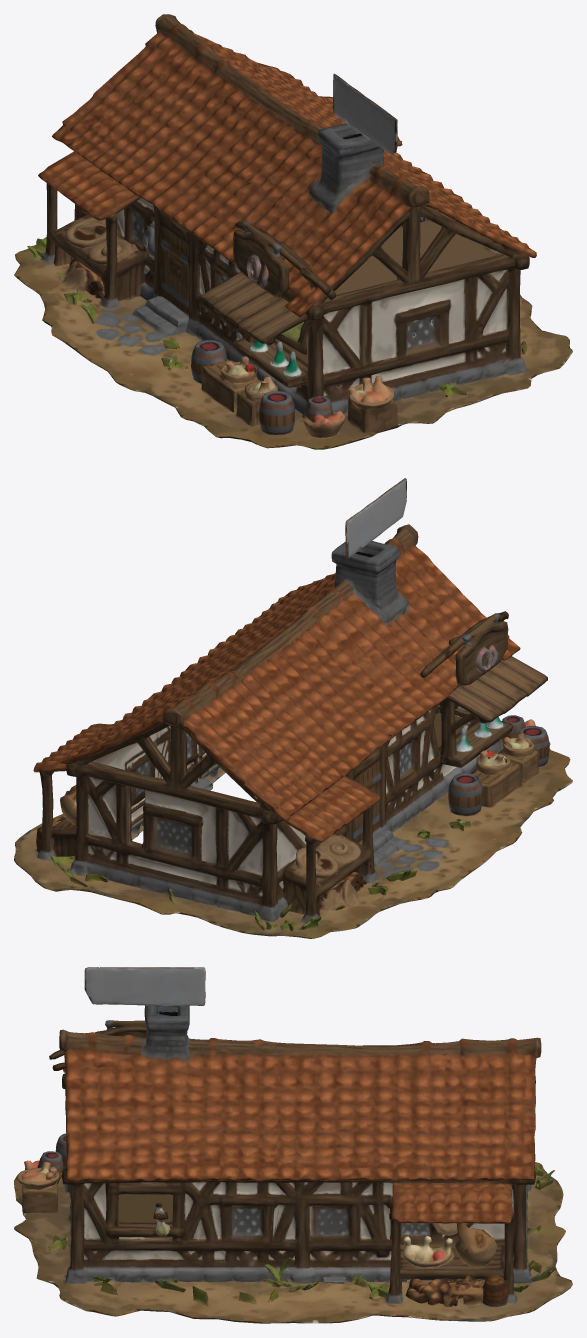
Rendered from Shop.glb.
3 renders of one model, top to bottom at view 1: azimuth 30°, elevation 25°; view 2: azimuth 150°, elevation 25°; view 3: azimuth 270°, elevation 25°, orthographic. The views are drawn at different scales.
Visible parts, largest first — view 1: world; view 2: world; view 3: world.
Boxes of the visible parts, x1,y1,x2,y2 form: world: [14, 14, 572, 449]; world: [14, 478, 572, 938]; world: [14, 967, 572, 1323].
Bounding box in the file's own units: 0.7849 × 0.524 × 0.9992.
1 material, 1 textured.
